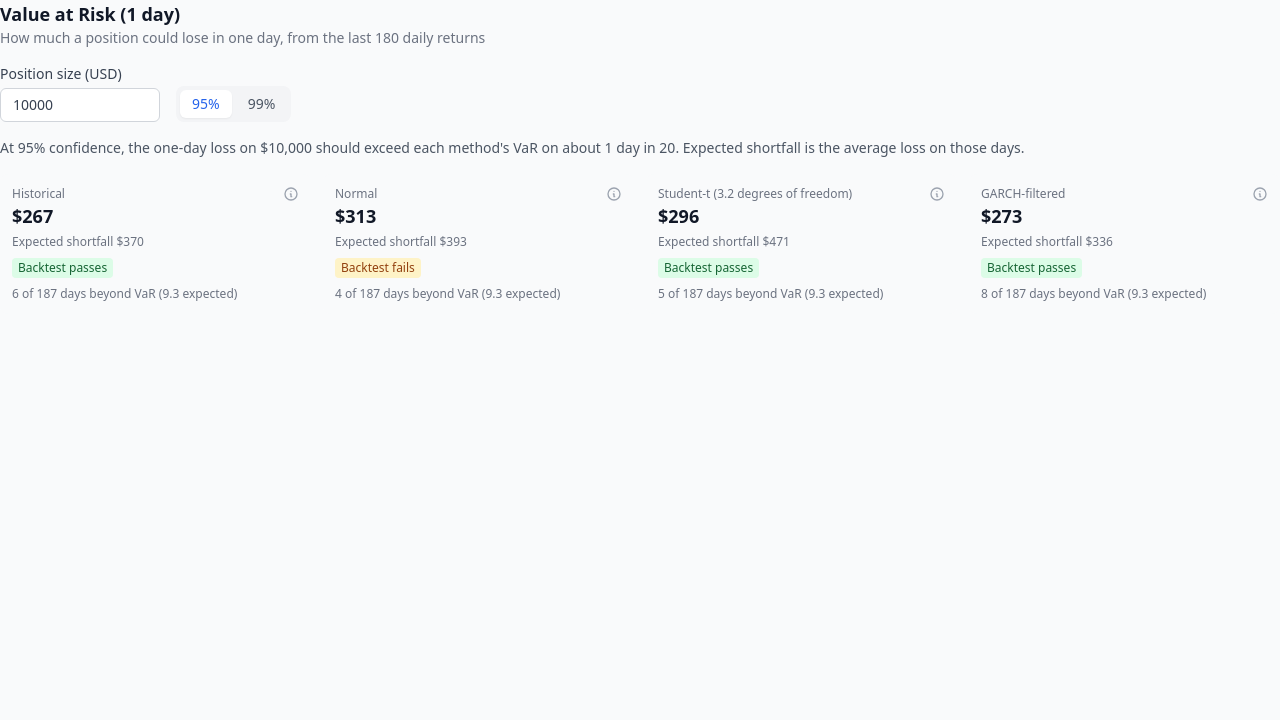
Test: ValueAtRiskPanel › includes the GARCH-filtered method and explains it
Expected: the text "$273" is shown, [981,204,1022,228]
Expected: the text "Expected shortfall $336" is shown, [981,233,1113,250]
Click the button named "About GARCH-filtered": [1260, 194] box [1252,186,1268,202]
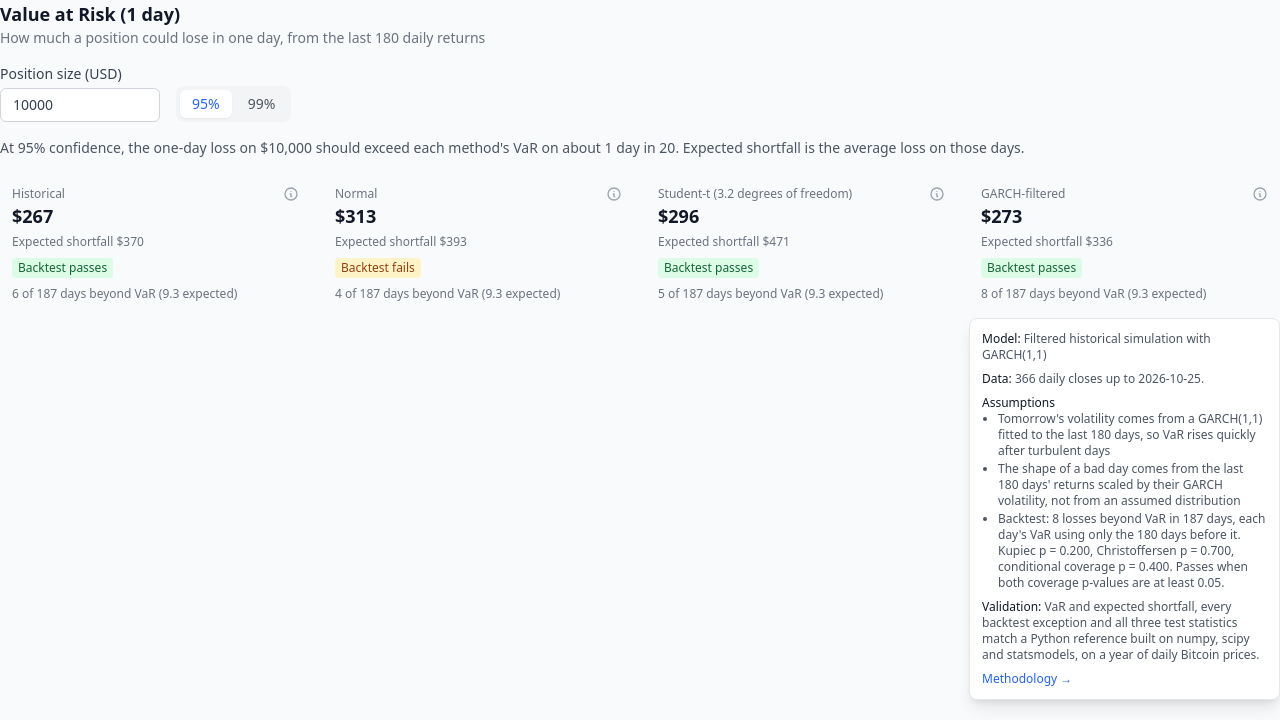
Result: the dialog shows "Filtered historical simulation with GARCH(1,1)" at [982,330,1211,363]
